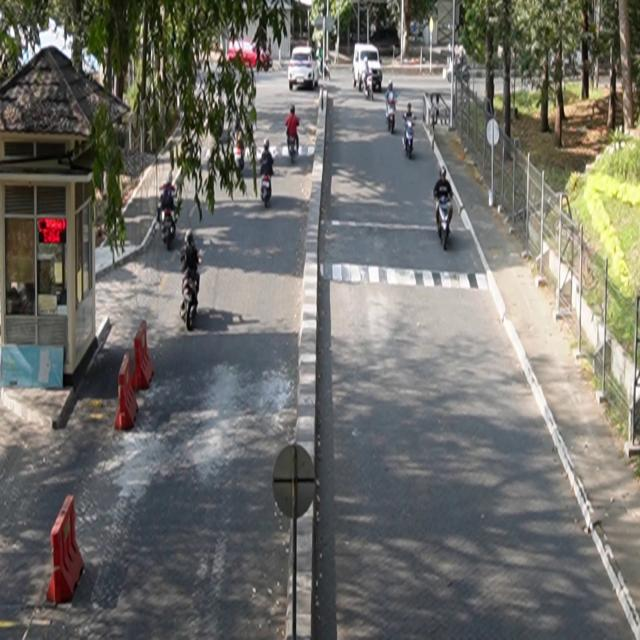car: (289, 47, 320, 91)
